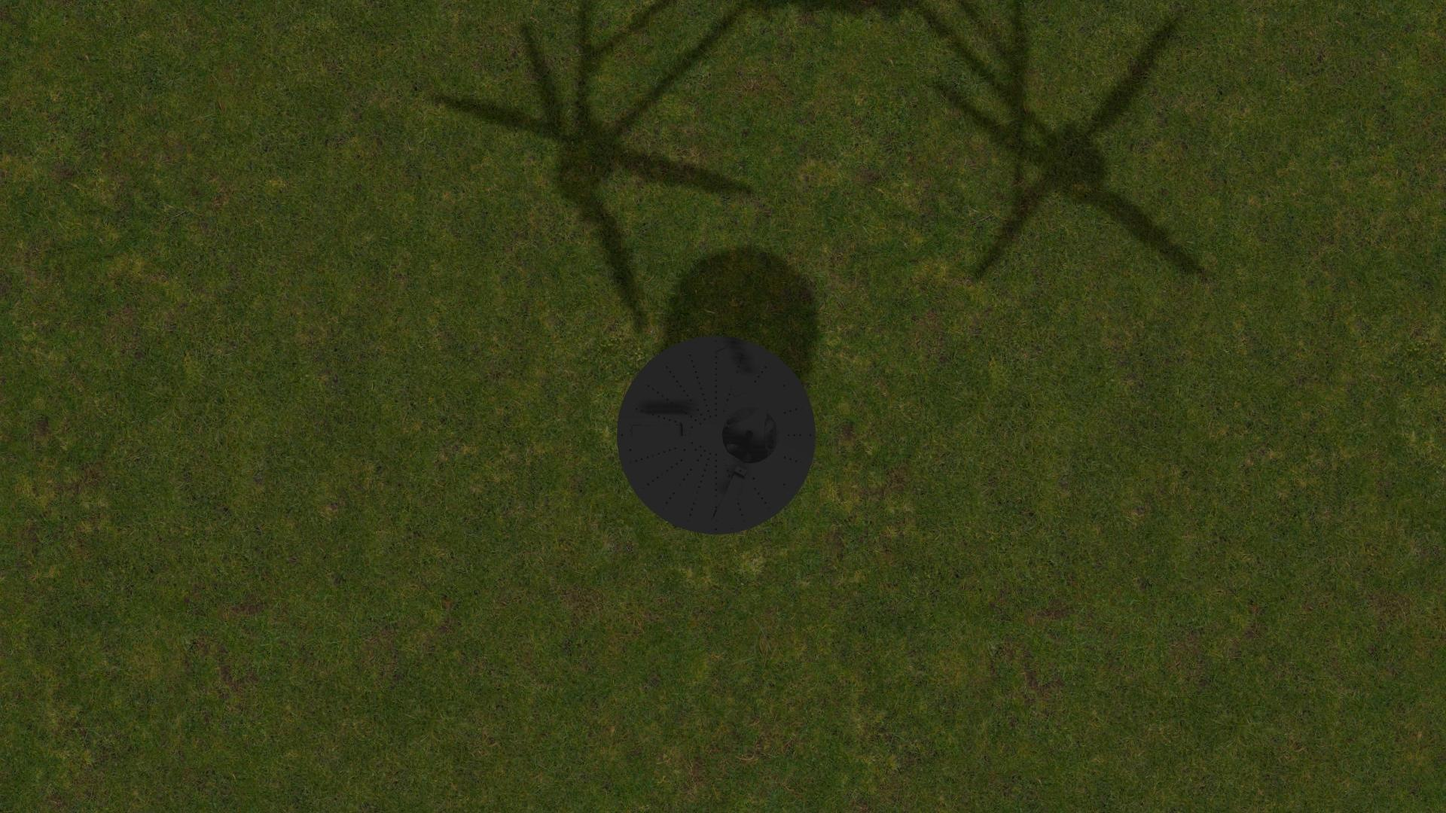alca: (711, 465, 747, 526), (713, 343, 748, 403), (627, 424, 690, 438)
armadilha: (617, 335, 816, 535)
